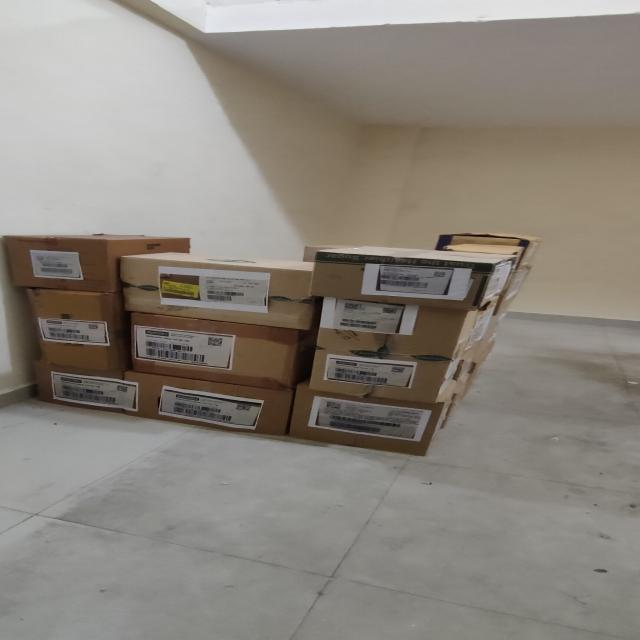BoxFace: (26, 360, 293, 436), (314, 294, 464, 402), (126, 311, 302, 392), (118, 256, 310, 328), (286, 378, 454, 456), (310, 249, 519, 309), (20, 286, 124, 372), (4, 235, 110, 292)
